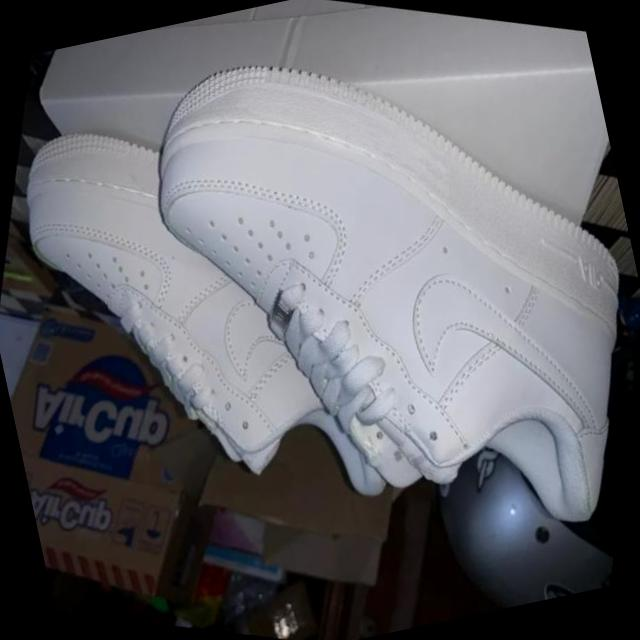nike_fake_airforce: (39, 0, 640, 622), (0, 51, 445, 546)
